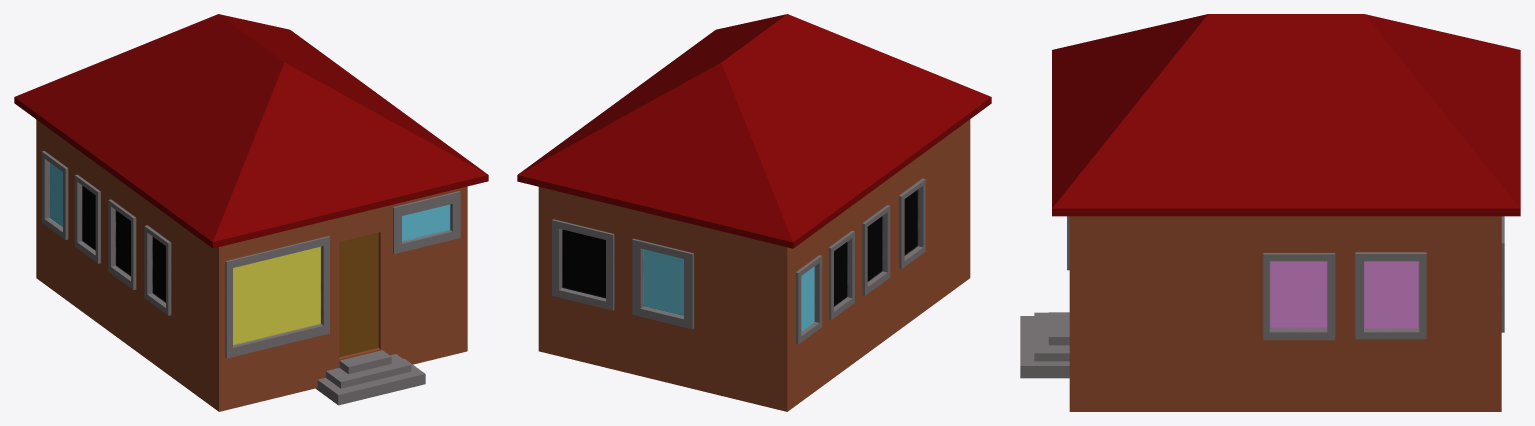
The model's file is house_01.fbx.
The picture shows the model from 3 angles, left to right: view 1: azimuth 30°, elevation 25°; view 2: azimuth 150°, elevation 25°; view 3: azimuth 270°, elevation 25°; orthographic projection. The views are drawn at different scales.
Parts seen in each view (by area): view 1: house.001, house.003, Cube.085; view 2: house.001, house.003; view 3: house.003, house.001, Cube.085.
Boxes of the visible parts, x1=… form: house.001: x1=36, y1=119, x2=467, y2=411; house.003: x1=14, y1=14, x2=488, y2=248; Cube.085: x1=315, y1=350, x2=425, y2=405; house.001: x1=538, y1=119, x2=970, y2=411; house.003: x1=517, y1=14, x2=991, y2=248; house.003: x1=1052, y1=14, x2=1520, y2=216; house.001: x1=1067, y1=216, x2=1504, y2=411; Cube.085: x1=1020, y1=312, x2=1069, y2=378.
Size of the model in its own units: 189 by 183 by 252.
Materials: 1 (1 with a texture image).
